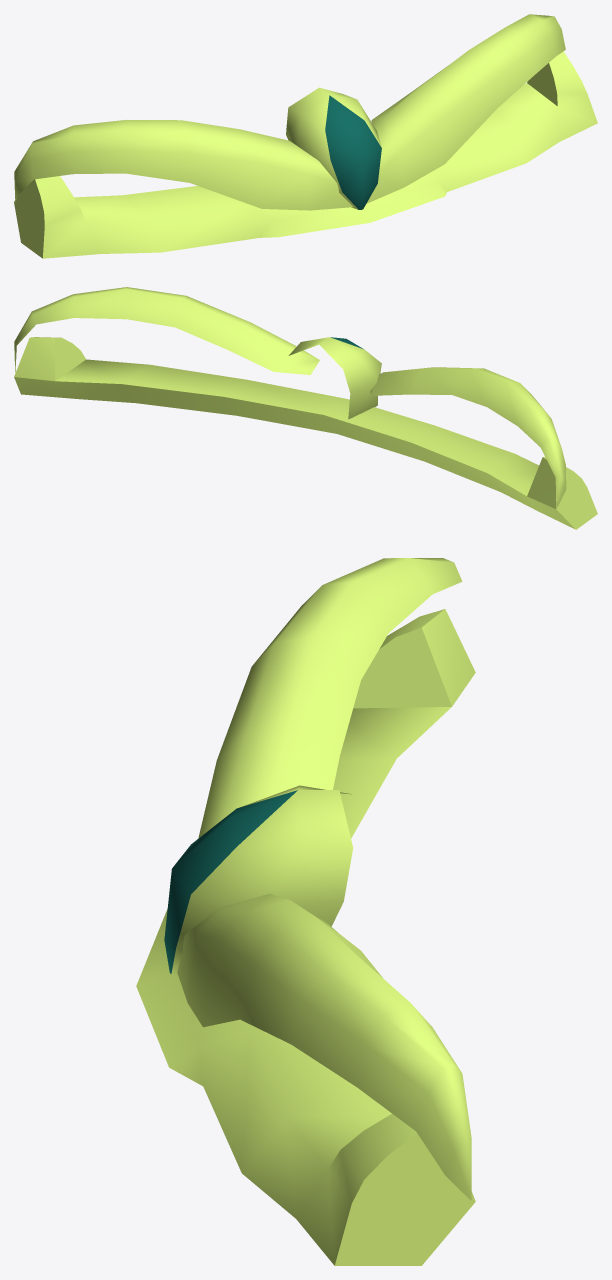
The model's file is LuxBumper02C02.gltf.
The picture shows the model from 3 angles, top to bottom: view 1: azimuth 30°, elevation 25°; view 2: azimuth 150°, elevation 25°; view 3: azimuth 270°, elevation 25°; orthographic projection. The views are drawn at different scales.
Parts seen in each view (by area): view 1: LuxBumper02C02; view 2: LuxBumper02C02; view 3: LuxBumper02C02.
Part boxes in pixels (box(x1,y1,x2,y2)): LuxBumper02C02: box(14, 14, 597, 258); LuxBumper02C02: box(14, 287, 597, 529); LuxBumper02C02: box(136, 558, 475, 1265).
Bounding box in the file's own units: 0.1877 × 0.0368 × 0.0497.
1 material, 1 textured.
